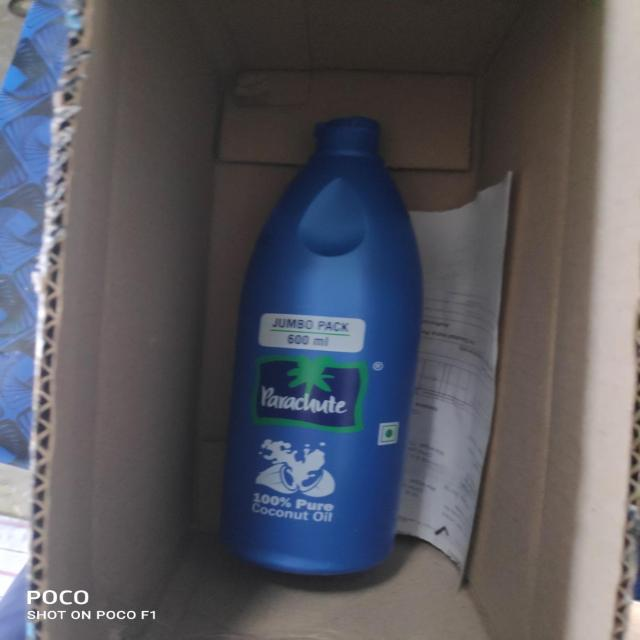parachute_oil: (220, 100, 421, 584)
